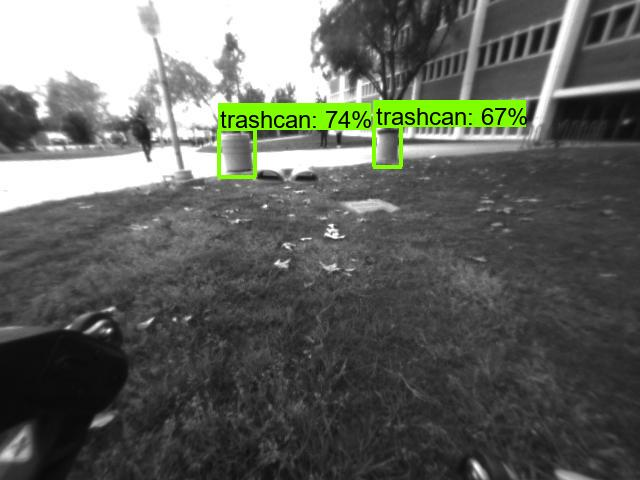trashcan: (376, 126, 403, 173), (223, 134, 253, 171)
